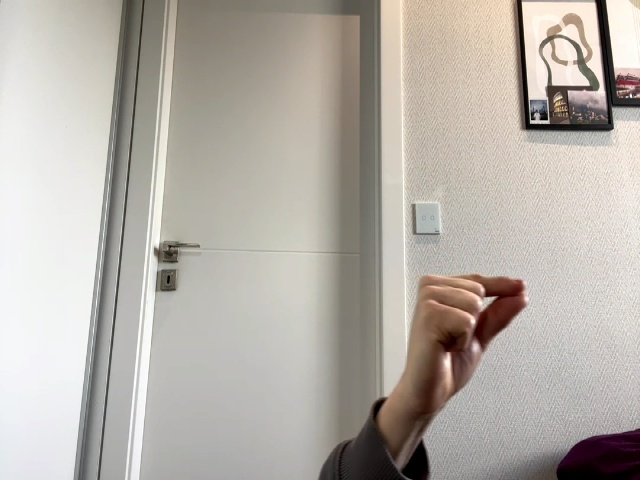P: (409, 274, 529, 400)
